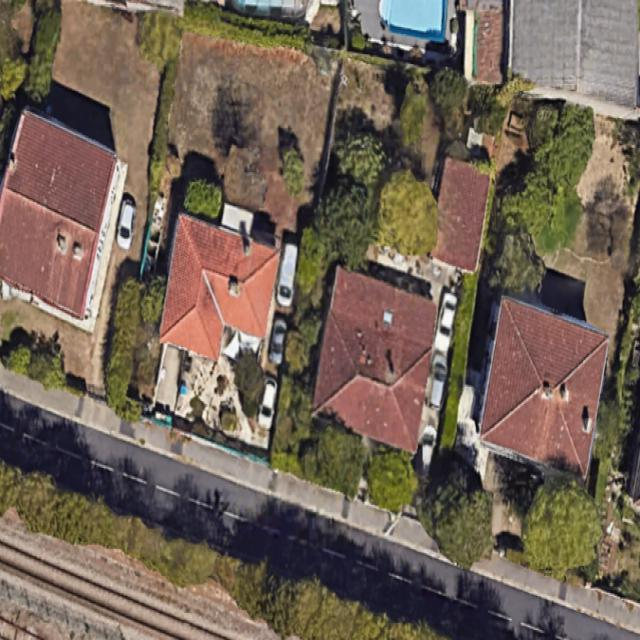maison: (0, 106, 137, 331), (465, 297, 621, 479), (308, 265, 441, 453), (157, 212, 282, 366)
